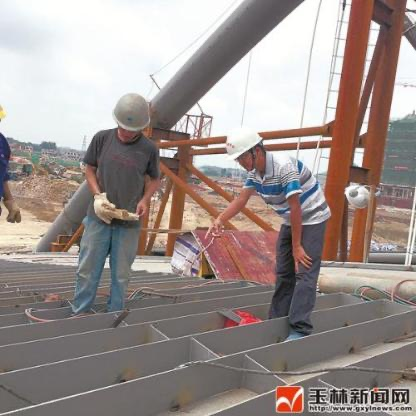Safety Helmet: (105, 86, 160, 148), (219, 119, 271, 181)
